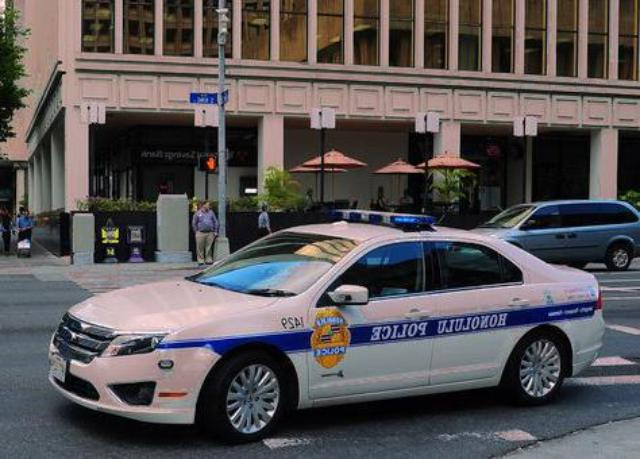police: (50, 209, 604, 429)
